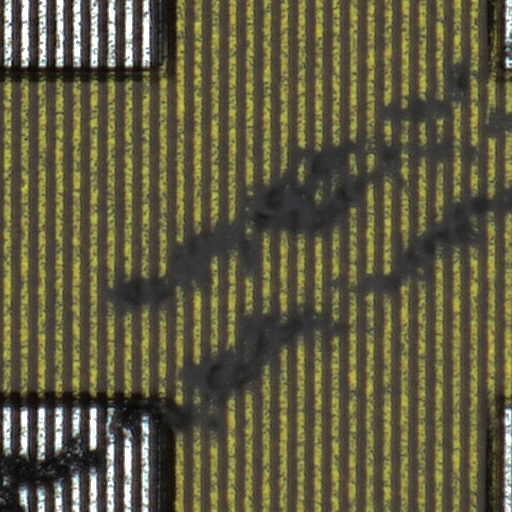SCRATCH: (1, 33, 512, 512)
